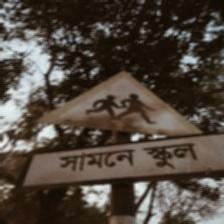School-in-front: (14, 70, 224, 195)
